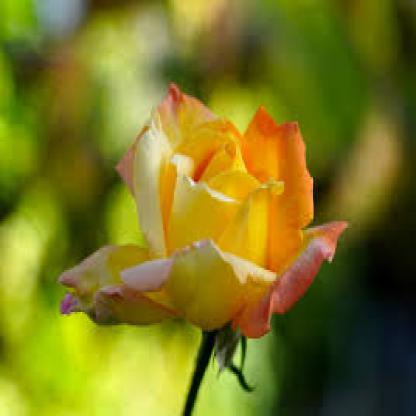Rose-Mawar: (45, 76, 349, 353)
